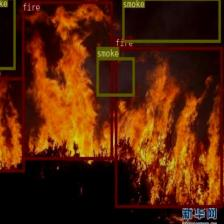fire: (114, 47, 222, 207), (22, 0, 112, 160), (0, 77, 24, 172)
smoke: (122, 0, 220, 42), (96, 57, 134, 96), (0, 0, 15, 69)
